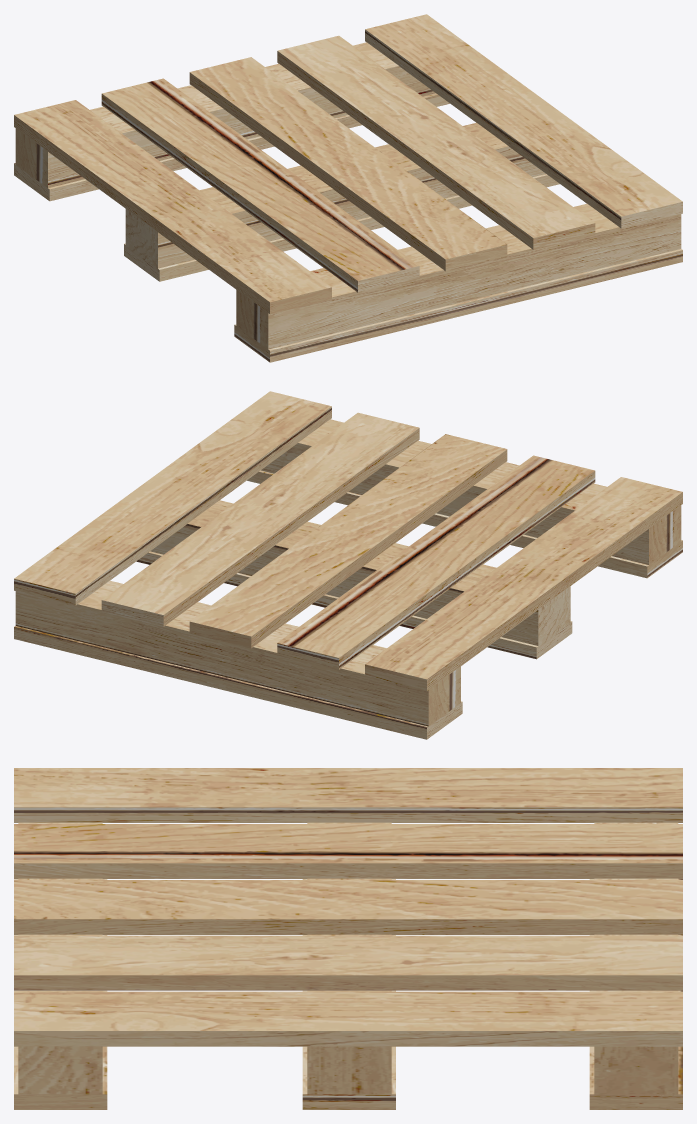
File: palet.fbx
The picture shows the model from 3 angles, top to bottom: view 1: azimuth 30°, elevation 25°; view 2: azimuth 150°, elevation 25°; view 3: azimuth 270°, elevation 25°; orthographic projection. The views are drawn at different scales.
Visible parts, largest first — view 1: palet; view 2: palet; view 3: palet.
Boxes of the visible parts, x1,y1,x2,y2 form: palet: (14, 14, 682, 362); palet: (14, 391, 682, 739); palet: (14, 768, 682, 1109).
Size of the model in its own units: 253 by 35.39 by 272.
